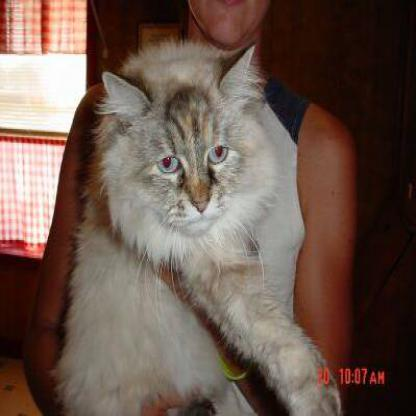cat: (72, 42, 334, 414)
